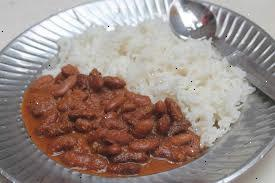rajma: (41, 62, 183, 173)
rice: (61, 21, 235, 116)
